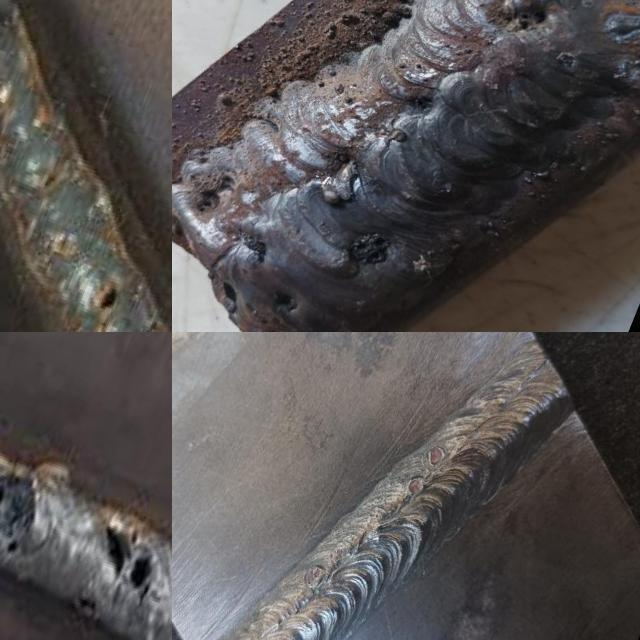defect: (94, 509, 159, 605), (0, 471, 37, 553), (341, 229, 393, 269), (264, 286, 307, 316), (233, 230, 272, 262), (510, 7, 548, 33), (95, 281, 122, 317), (557, 49, 584, 76), (422, 444, 447, 468), (402, 474, 425, 499), (303, 562, 322, 588), (333, 541, 351, 563), (410, 94, 433, 111), (368, 505, 385, 524)
